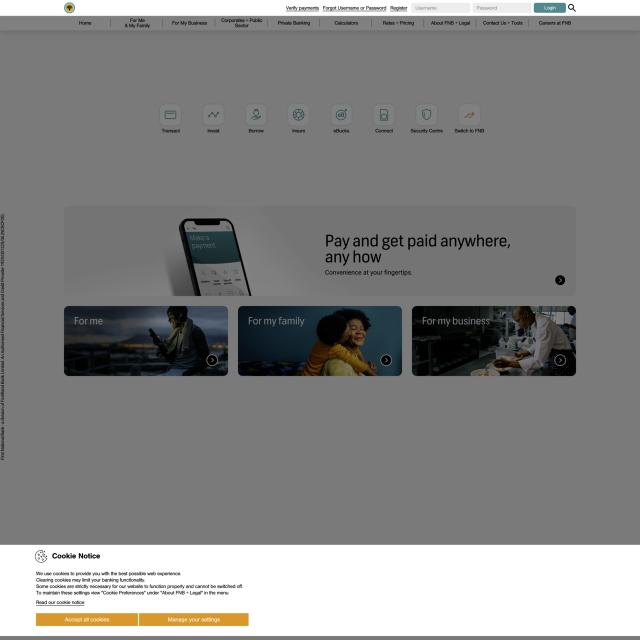input: (412, 2, 472, 14), (472, 3, 532, 13)
logo: (63, 1, 76, 14)
